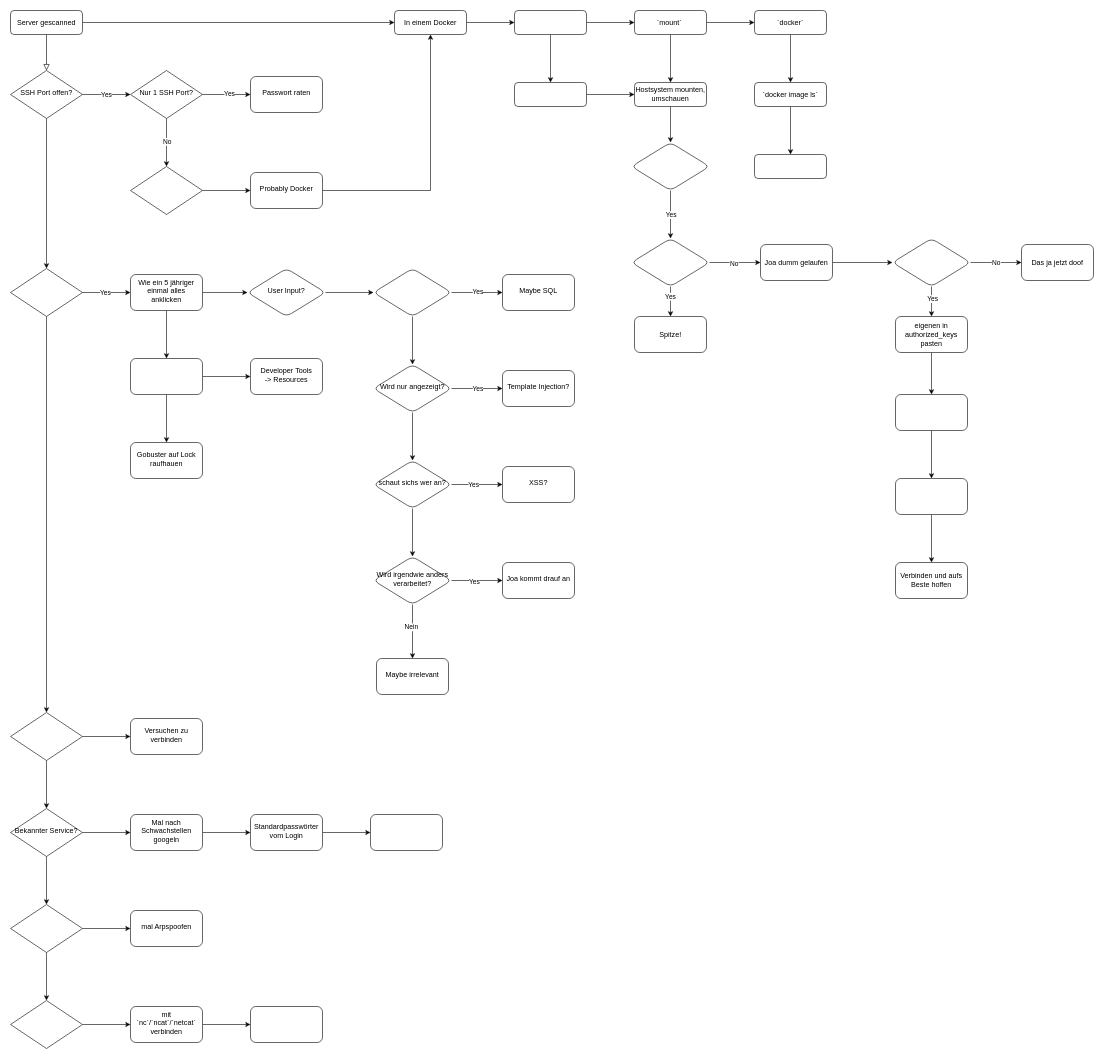
The diagram is 1104 pixels wide and 1059 high, and some of its shapes have lost their labels. Each missing label, with the centre of its shape:
.ssh Ordner von irgendwem?: the point at 931,262
`chmod 600`: the point at 931,496
`docker container ls`: the point at 790,166
`id`: the point at 550,22
Auch was drin?: the point at 670,262
Beten, dass man keinen TCP Client schreiben muss: the point at 286,1024
Flags-Ordner Accessible?: the point at 670,166
Irgendein TCP Scheiß?: the point at 46,1024
Irgendwas Website artiges?: the point at 46,292
Mal selber aufsetzen: the point at 406,832
Mindestens 2?: the point at 166,190
Nüscht offen?: the point at 46,928
Owner entsprechend dem User setzen: the point at 931,412
RDP oder so?: the point at 46,736
root? praktisch!: the point at 550,94
Schauen, ob lustige Ressourcen im Hintergrund geladen werden: the point at 166,376
Wird gespeichert? und angezeigt: the point at 412,292
